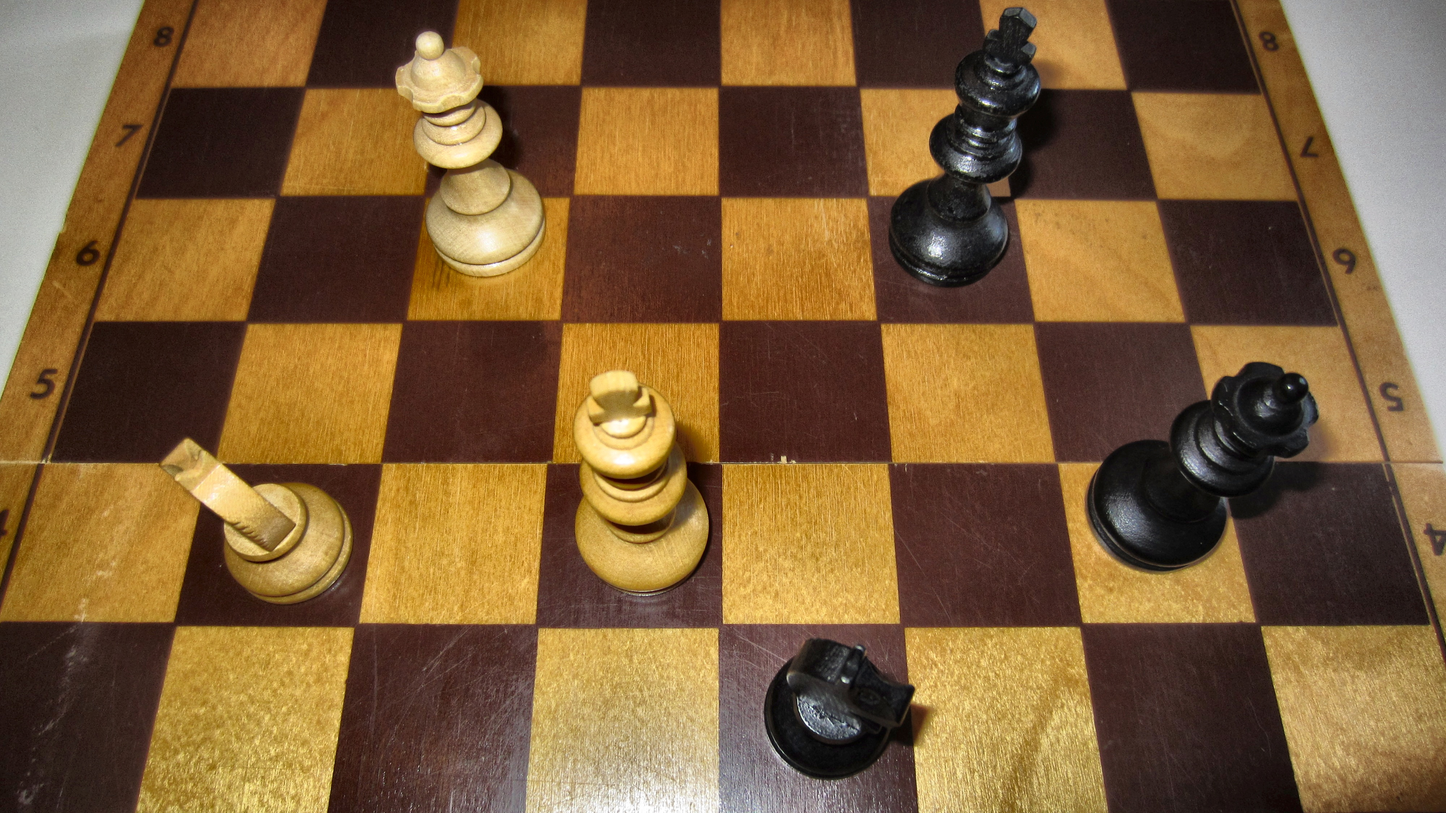black-king: (886, 5, 1043, 289)
black-knight: (761, 637, 916, 783)
black-queen: (1083, 358, 1323, 573)
white-king: (570, 369, 711, 599)
white-knight: (158, 435, 356, 606)
white-queen: (392, 27, 550, 279)
